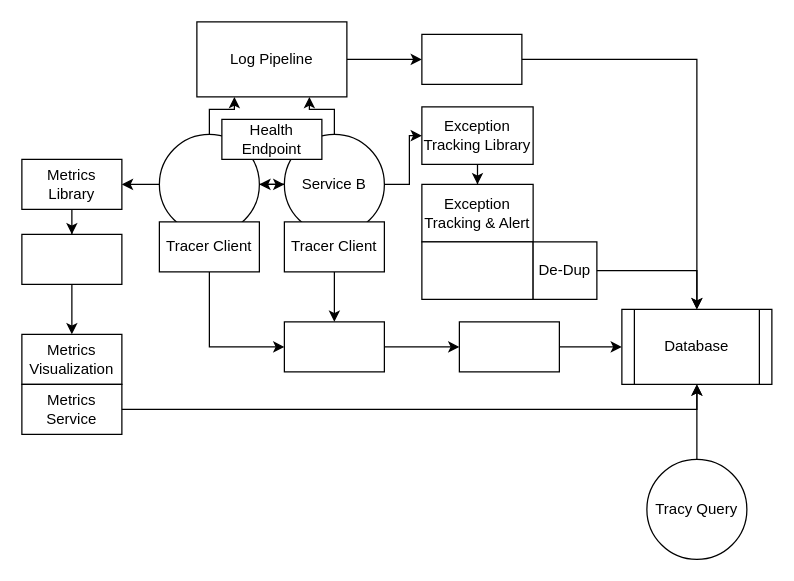
Some shapes in this 794 by 581 pixel diagram are drawn without their labels. The box of each missing label's shape, as (x1, y1, x2, y2) in pixels:
Exception Tracking Service: (421, 241, 533, 299)
Logging Server: (421, 33, 522, 84)
Metrics Ingestition: (21, 233, 122, 284)
Service A: (158, 133, 259, 234)
Tracer Agent: (283, 321, 384, 372)
Tracer Collector: (458, 321, 559, 372)
